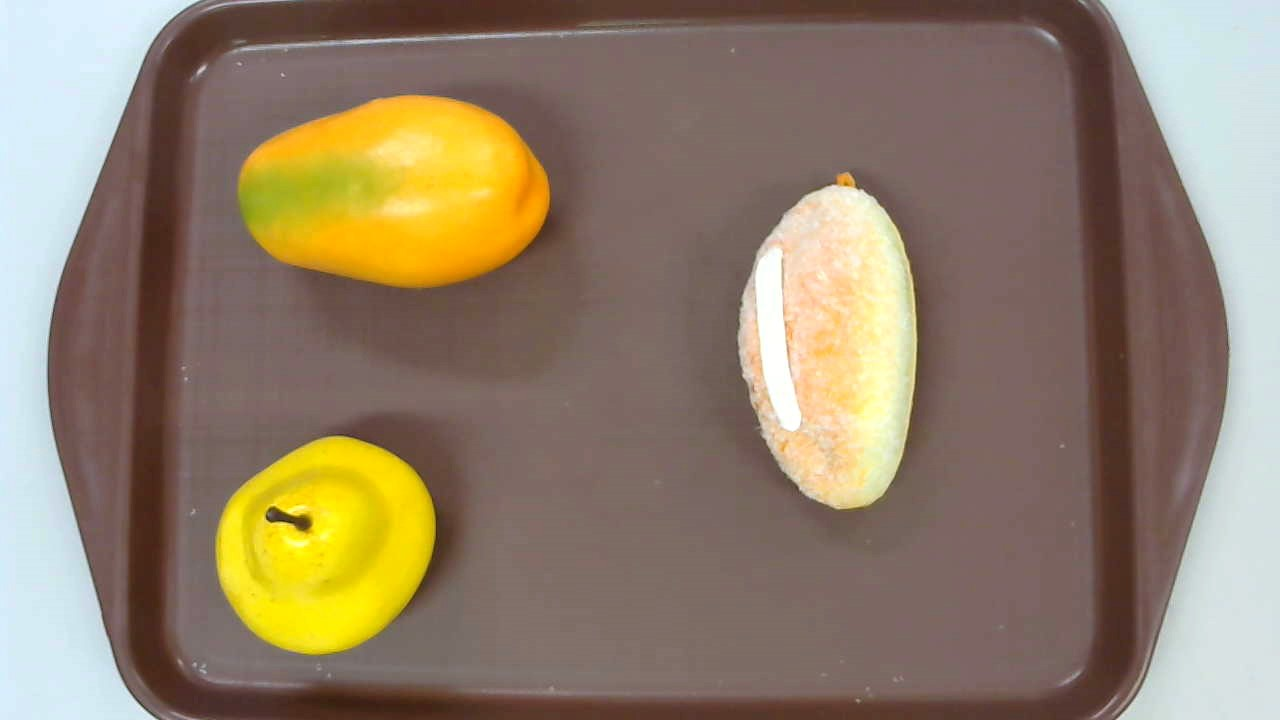coconut: (738, 171, 916, 506)
papya: (239, 95, 549, 288)
yellow pear: (215, 433, 436, 653)
